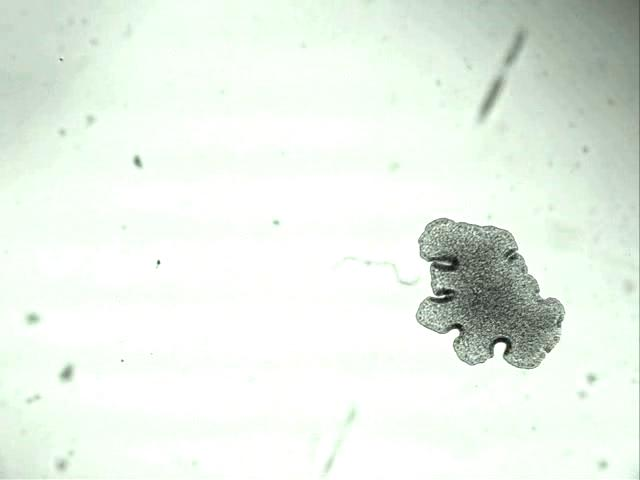Placozoan: (416, 218, 566, 370)
